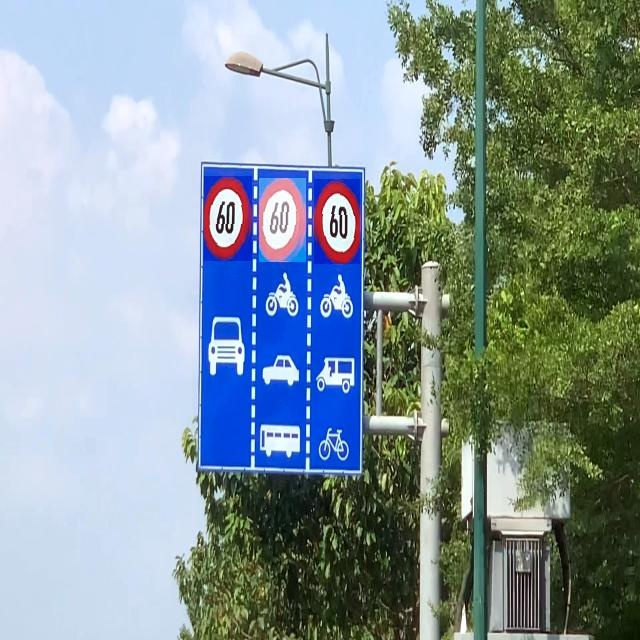bien_cam: (204, 176, 252, 261), (259, 178, 306, 262), (314, 179, 360, 264)
